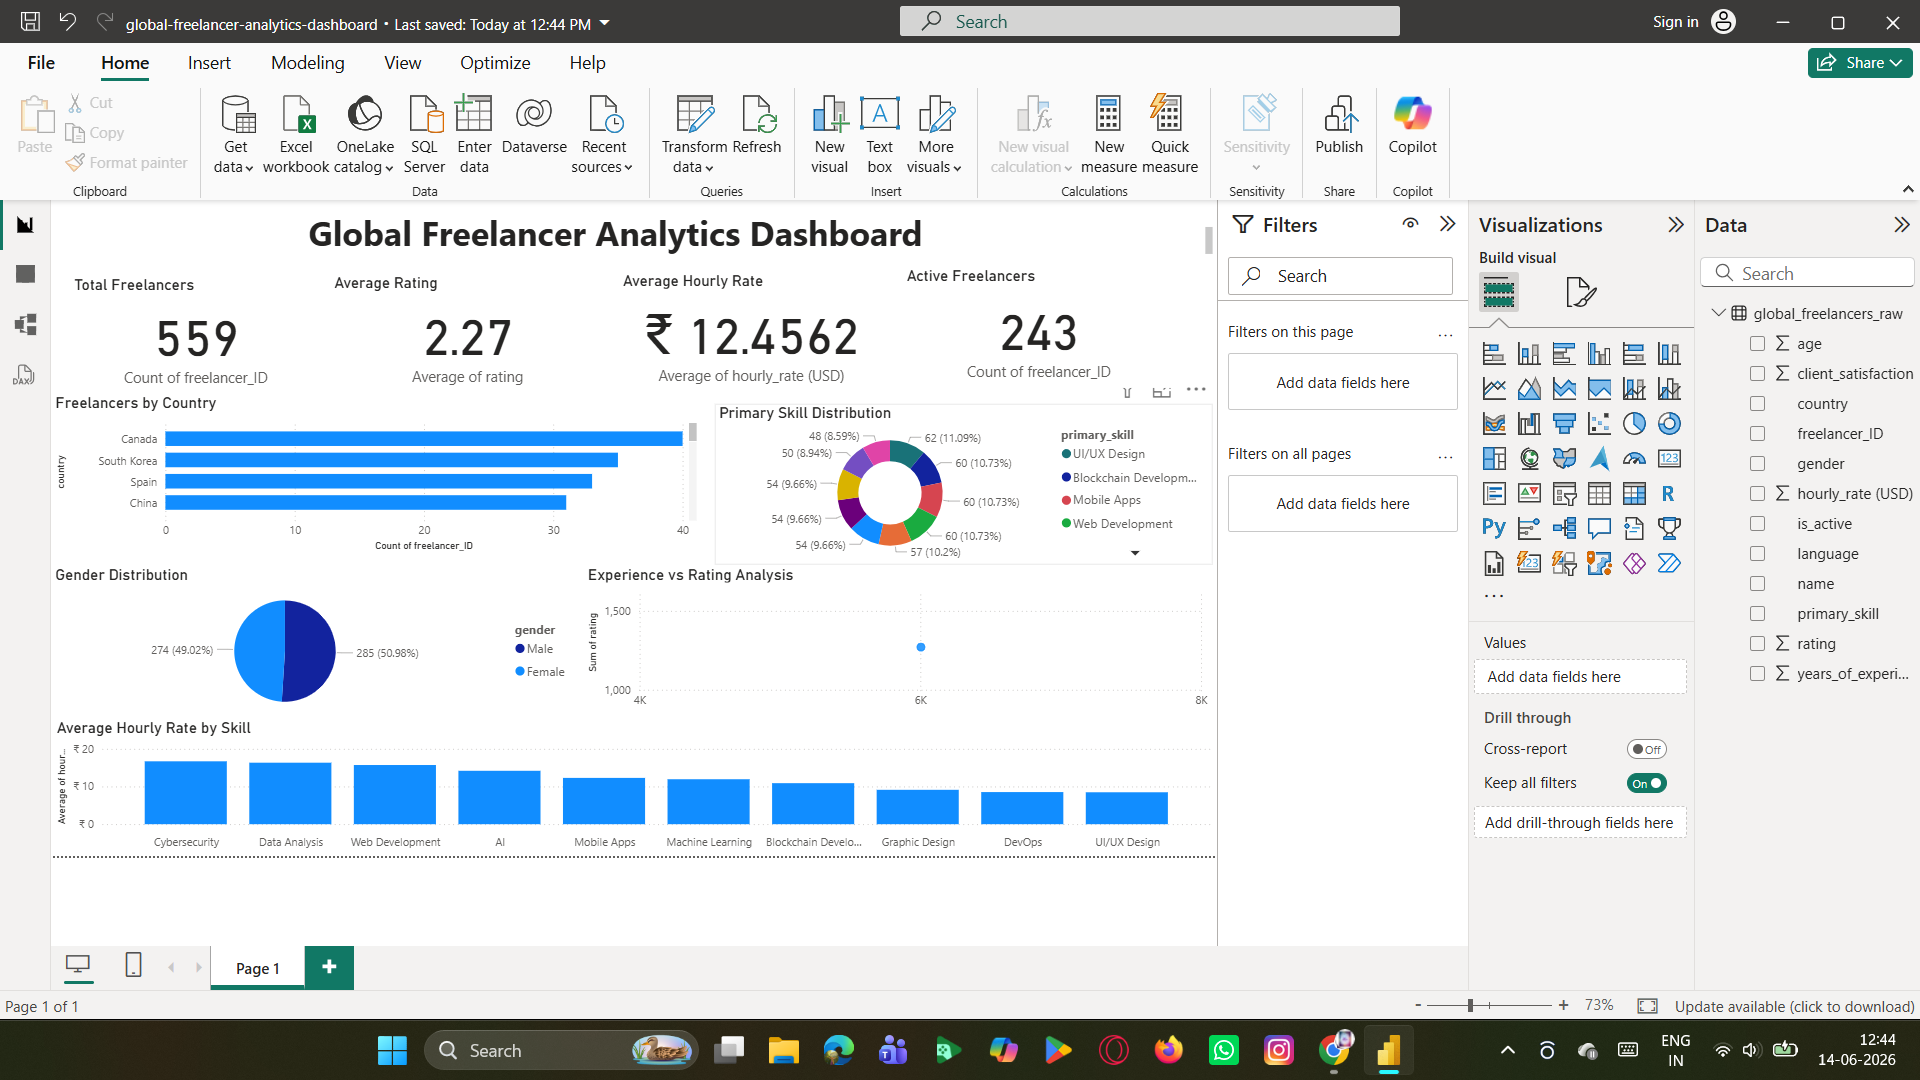

The page's visual inventory and layout, read from the dashboard file:
{"tool":"powerbi","page":{"name":"Page 1","canvas":[1280,720],"ordinal":0},"visuals":[{"type":"textbox","box":[0,0,1280.3,64.5],"z":0},{"type":"card","title":"Average Hourly Rate","fields":{"Values":["Avg(global_freelancers_raw.hourly_rate (USD))"]},"box":[623,78.2,292.3,132],"z":1000},{"type":"card","title":"Average Rating","fields":{"Values":["Avg(global_freelancers_raw.rating)"]},"box":[305.5,81.5,303.3,129],"z":2000},{"type":"card","title":"Total Freelancers","fields":{"Values":["Count(global_freelancers_raw.freelancer_ID)"]},"box":[20.6,82.3,277.2,129.3],"z":3000},{"type":"clusteredBarChart","title":"Freelancers by Country","fields":{"Category":["global_freelancers_raw.country"],"Y":["Count(global_freelancers_raw.freelancer_ID)"]},"box":[0,212.7,713.6,178.4],"z":4000},{"type":"donutChart","title":"Primary Skill Distribution","fields":{"Category":["global_freelancers_raw.primary_skill"],"Y":["CountNonNull(global_freelancers_raw.freelancer_ID)"]},"box":[728.6,223.7,546.1,177],"z":5000},{"type":"pieChart","title":"Gender Distribution","fields":{"Category":["global_freelancers_raw.gender"],"Y":["CountNonNull(global_freelancers_raw.freelancer_ID)"]},"box":[0,400.7,579.1,170.2],"z":6000},{"type":"scatterChart","title":"Experience vs Rating Analysis","fields":{"X":["Sum(global_freelancers_raw.years_of_experience)"],"Y":["Sum(global_freelancers_raw.rating)"]},"box":[584.6,400.7,690.2,167.1],"z":7000},{"type":"clusteredColumnChart","title":"Average Hourly Rate by Skill","fields":{"Category":["global_freelancers_raw.primary_skill"],"Y":["Avg(global_freelancers_raw.hourly_rate (USD))"]},"box":[1.4,569.5,1277.5,150.9],"z":8000},{"type":"card","title":"Active Freelancers","fields":{"Values":["CountNonNull(global_freelancers_raw.freelancer_ID)"]},"box":[934.5,72.7,300.5,133.9],"z":9000}]}

Visuals, with their boxes on the page's 1280x720 design canvas (x1, y1, x2, y2). These are canvas units, not pixel positions in the 1920x1080 screenshot, which may show the page scaled, cropped or inside an application window:
textbox: crop(0, 0, 1280, 64)
"Average Hourly Rate" card: crop(623, 78, 915, 210)
"Average Rating" card: crop(306, 82, 609, 210)
"Total Freelancers" card: crop(21, 82, 298, 212)
"Freelancers by Country" clusteredBarChart: crop(0, 213, 714, 391)
"Primary Skill Distribution" donutChart: crop(729, 224, 1275, 401)
"Gender Distribution" pieChart: crop(0, 401, 579, 571)
"Experience vs Rating Analysis" scatterChart: crop(585, 401, 1275, 568)
"Average Hourly Rate by Skill" clusteredColumnChart: crop(1, 570, 1279, 720)
"Active Freelancers" card: crop(934, 73, 1235, 207)
